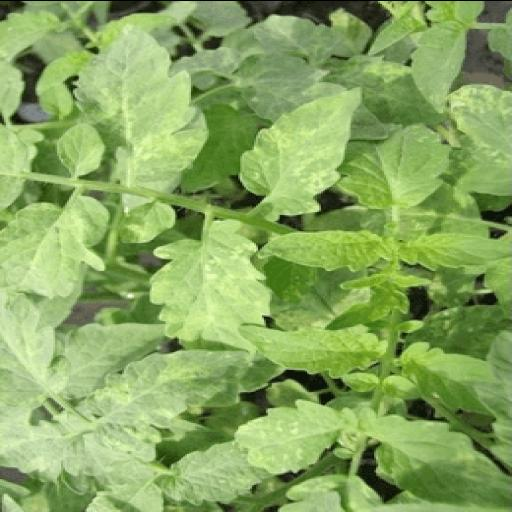disease_tomato: (72, 20, 210, 184), (238, 84, 364, 220), (82, 349, 258, 446), (146, 218, 274, 348), (356, 412, 512, 512), (232, 398, 358, 472), (439, 82, 512, 200)
